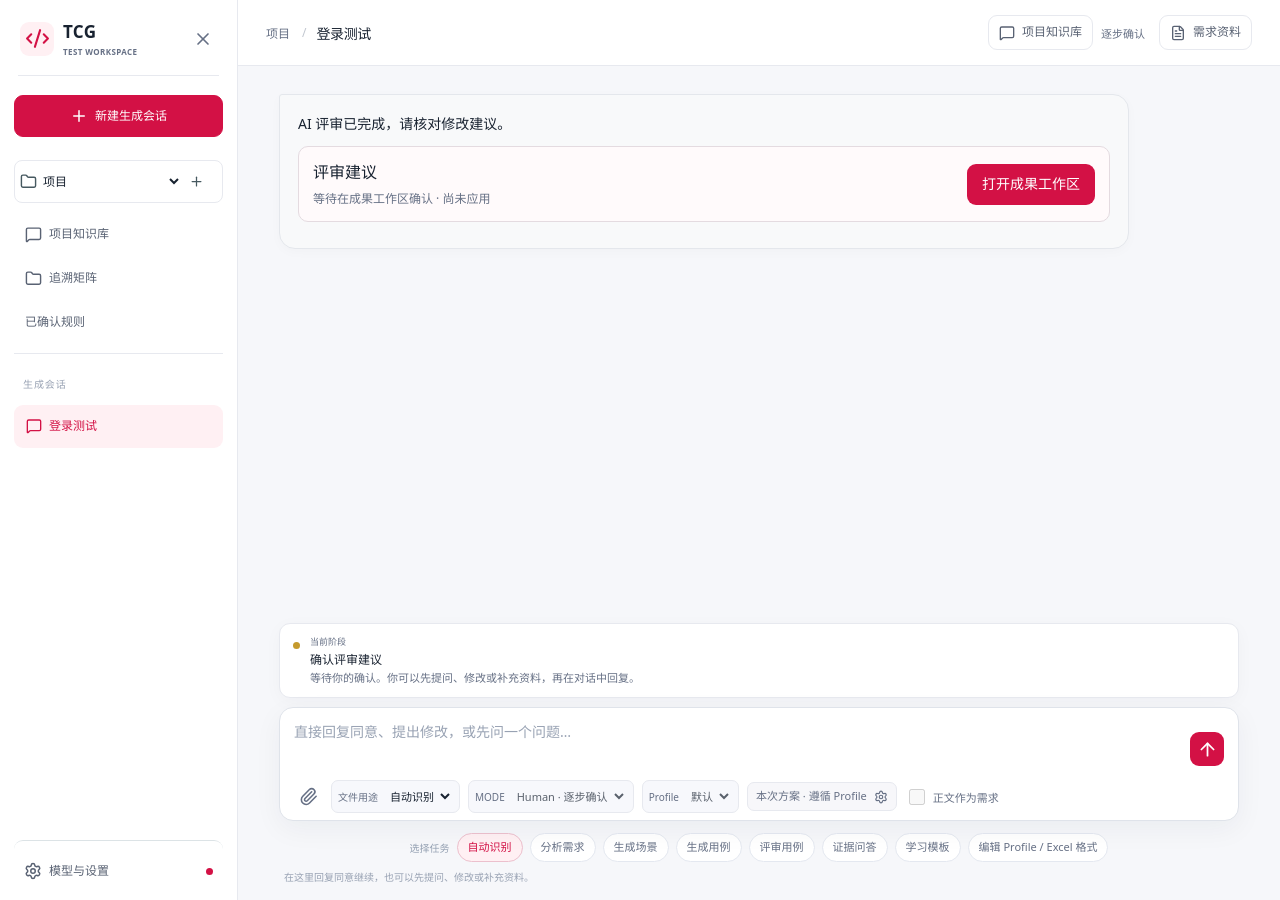
it: side assistant refuses a stale table revision and retains both text drafts
This screenshot has width=1280, height=900.
Type "主输入仍未发送" into the text box named "聊天输入".
click(737, 744); type("主输入仍未发送")  # box [294, 720, 1180, 768]
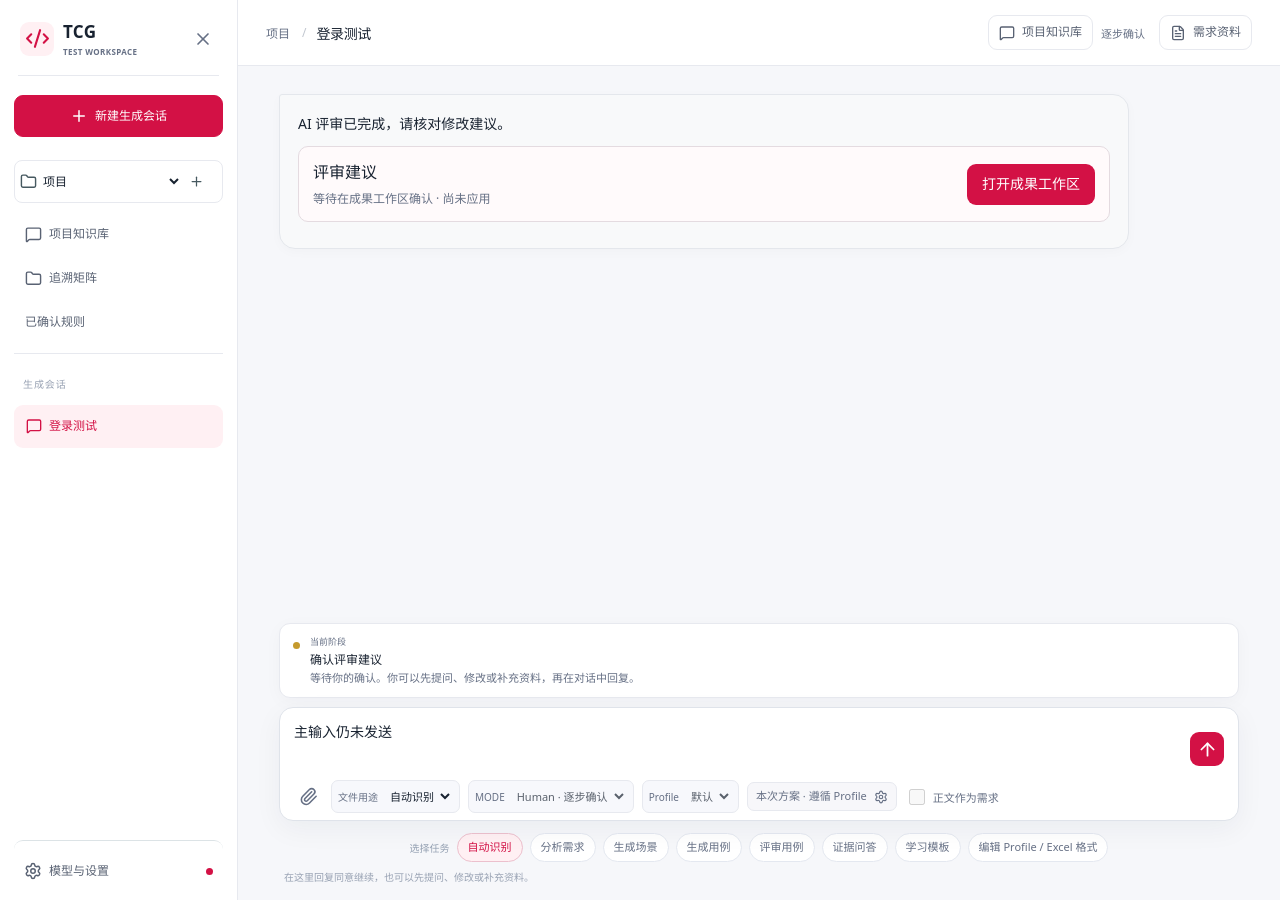
Click the button "打开成果工作区".
click(1031, 184)  # box [967, 164, 1095, 205]
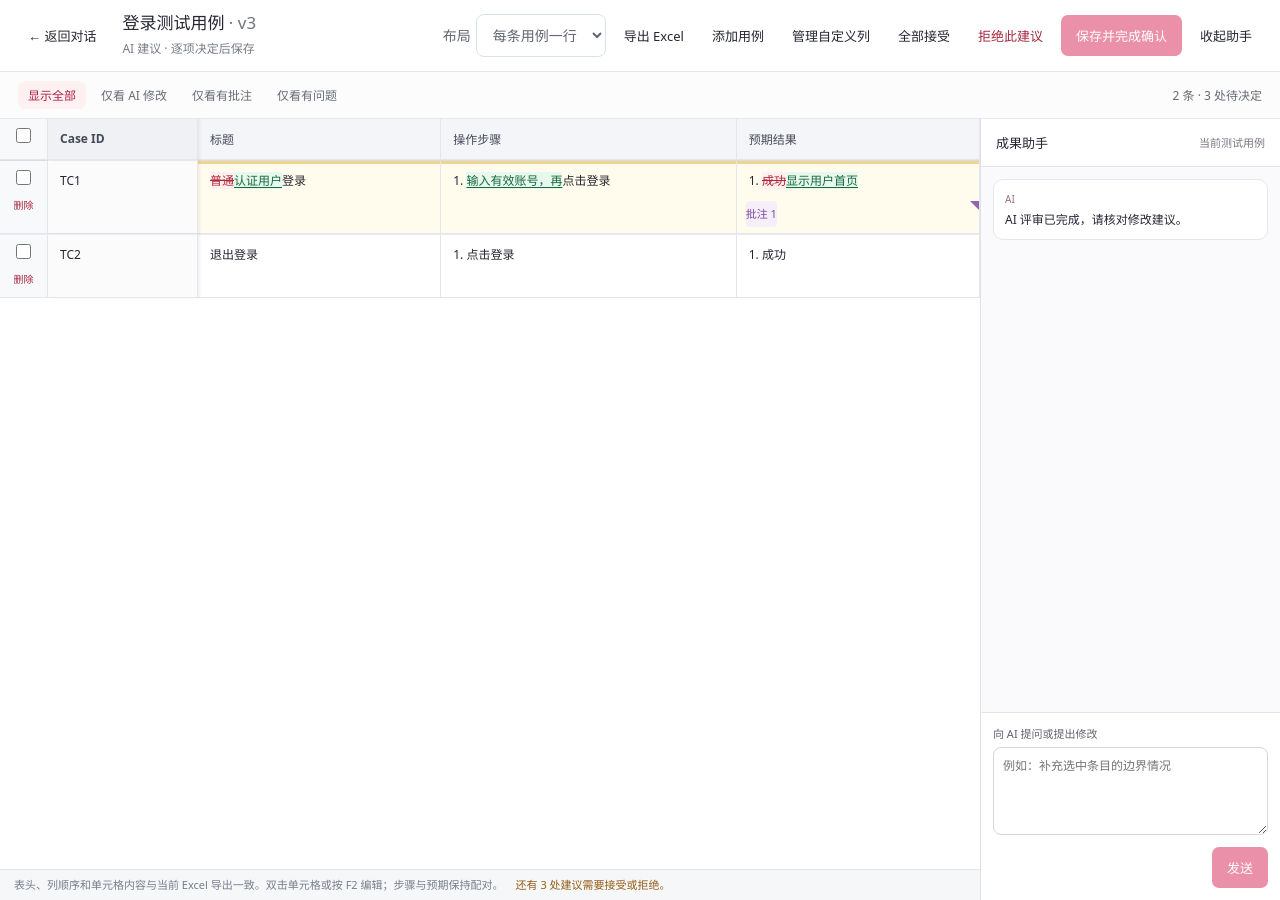
Check: the table is shown, box [0, 119, 980, 298]
Type "把前置条件改为已认证" into the text box.
click(1130, 791); type("把前置条件改为已认证")  # box [993, 747, 1268, 835]
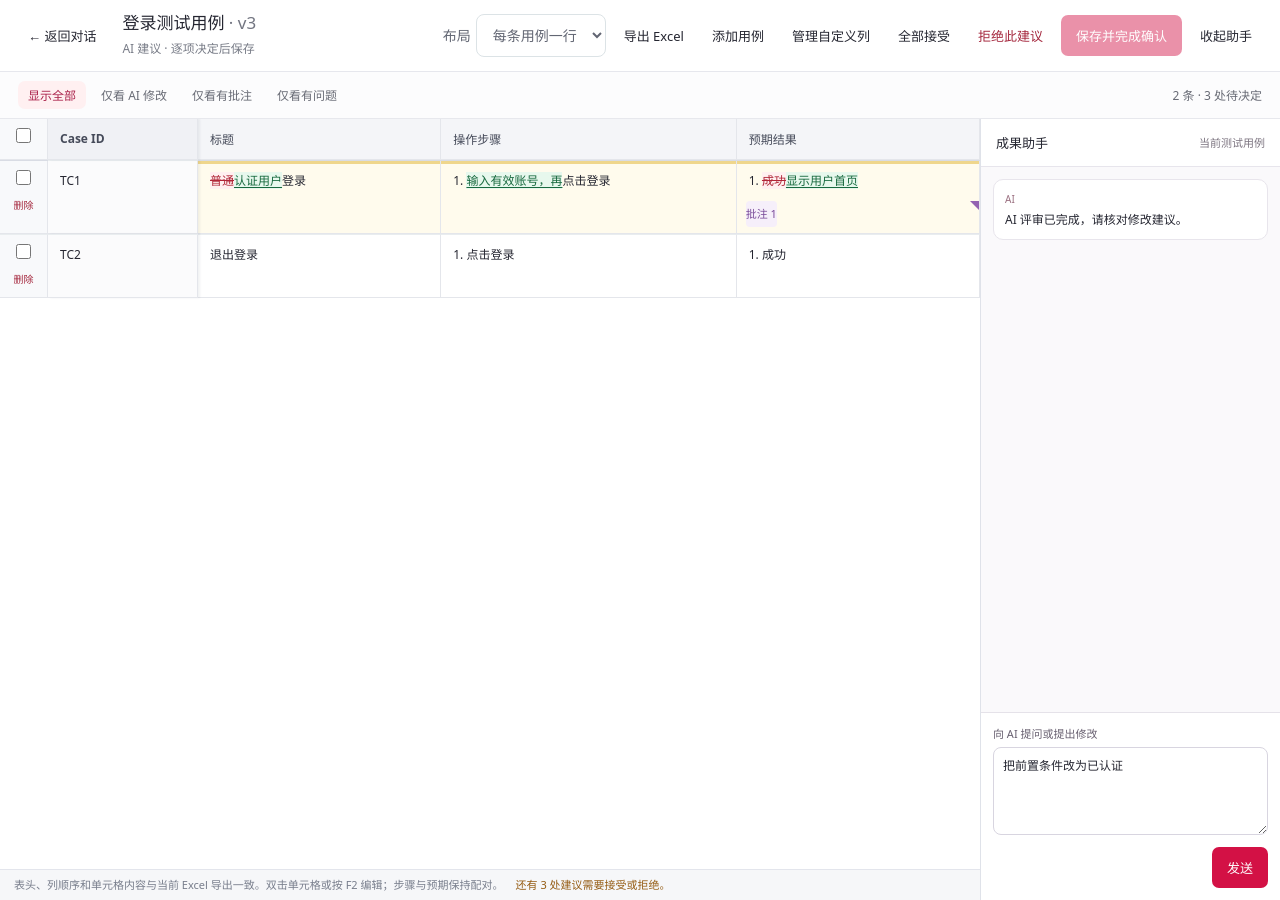
Click the button with aria-label "发送成果消息".
click(1240, 868)  # box [1212, 847, 1268, 888]
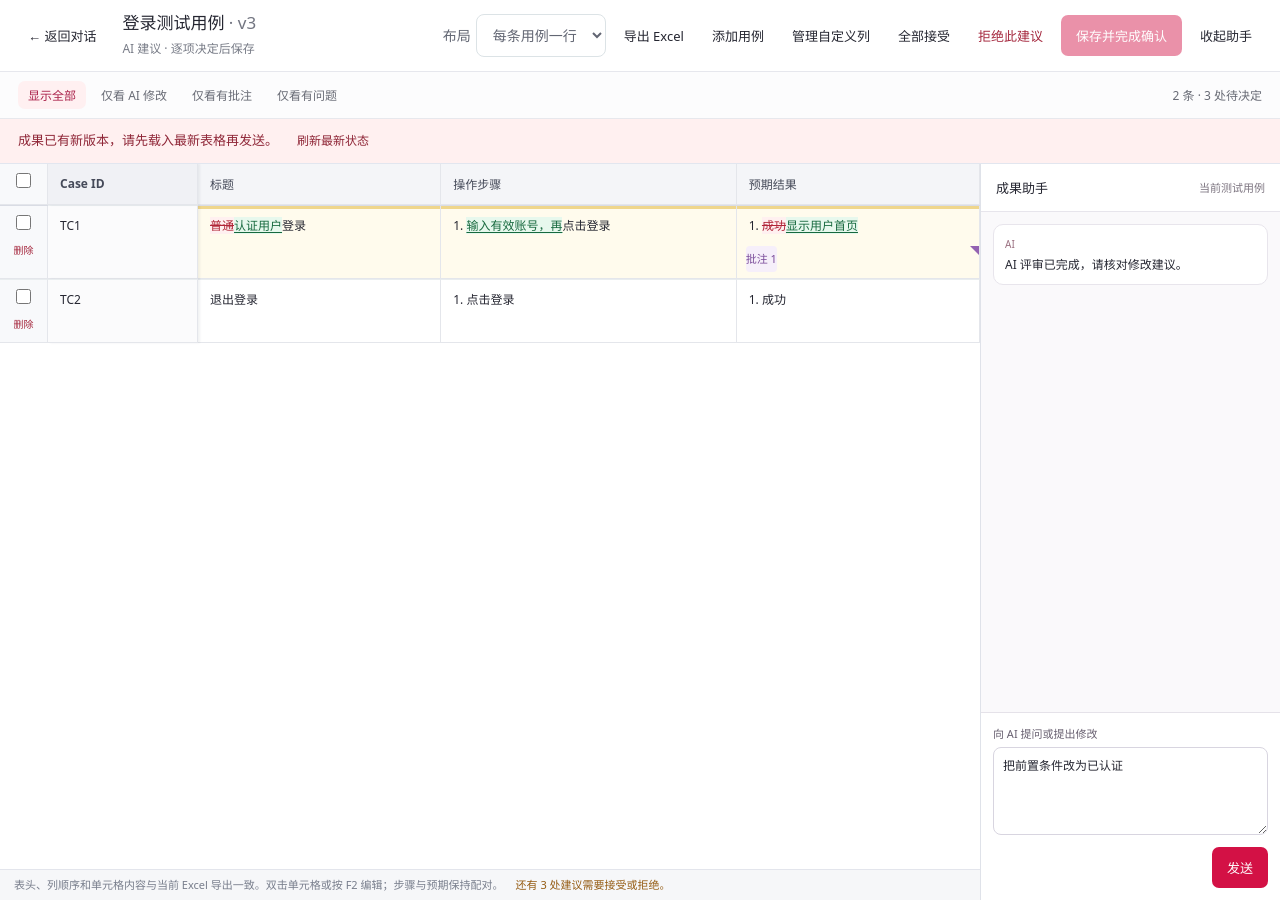
Check: the message "成果已有新版本，请先载入最新表格再发送。 刷新最新状态" is shown, box [0, 119, 1279, 164]
Check: the message reads "成果已有新版本，请先载入最新表格再发送。 刷新最新状态", box [18, 131, 278, 149]
